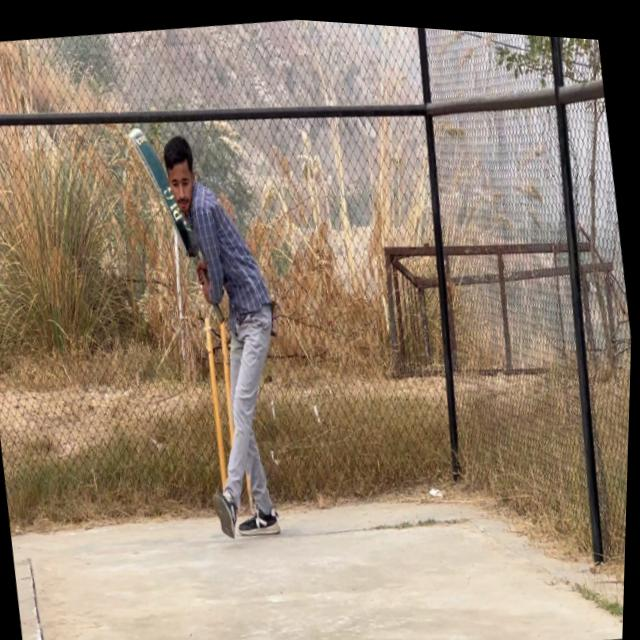Batsman: (140, 107, 317, 562)
